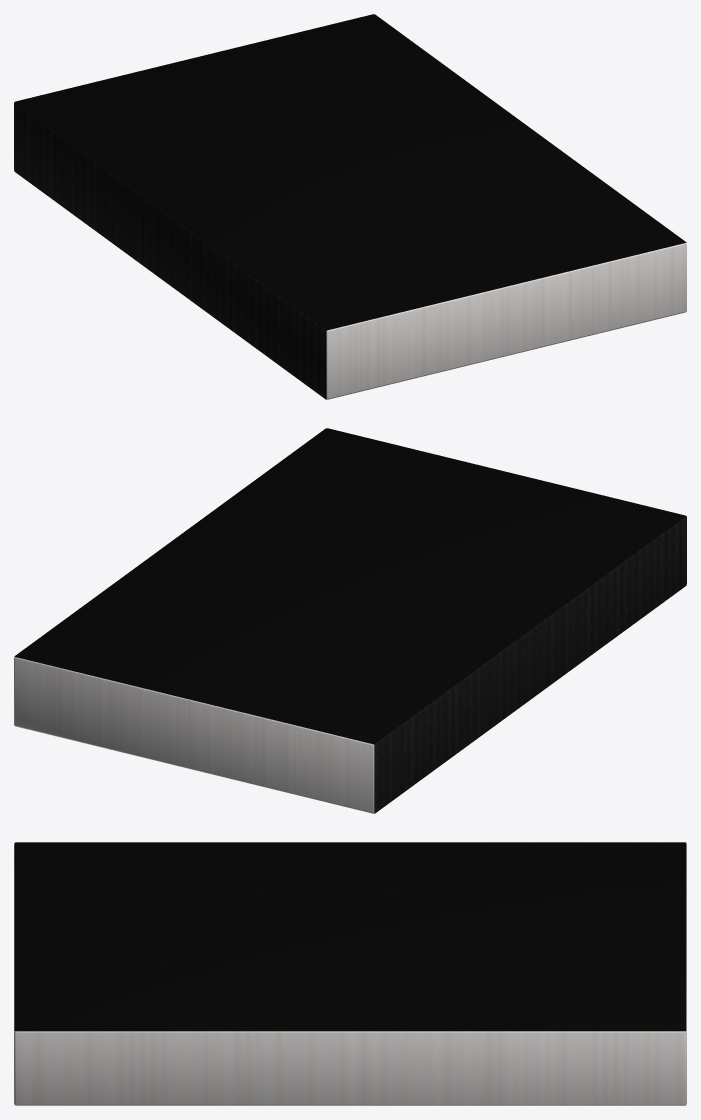
File: book.glb
The picture shows the model from 3 angles, top to bottom: view 1: azimuth 30°, elevation 25°; view 2: azimuth 150°, elevation 25°; view 3: azimuth 270°, elevation 25°; orthographic projection. The views are drawn at different scales.
Parts seen in each view (by area): view 1: Book; view 2: Book; view 3: Book.
Boxes of the visible parts, box(x1,y1,x2,y2) form: Book: box(14, 14, 686, 399); Book: box(14, 428, 686, 813); Book: box(14, 842, 686, 1105).
Size of the model in its own units: 0.15 by 0.028 by 0.225.
6 materials, 6 textured.
